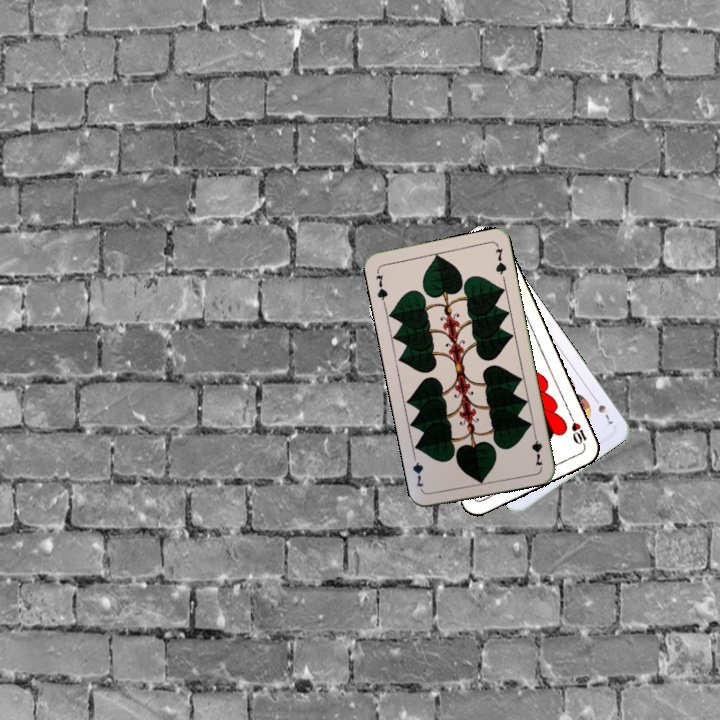G7: (527, 428, 545, 468), (372, 267, 390, 307)
H10: (566, 411, 589, 450)
S7: (589, 393, 616, 427)
